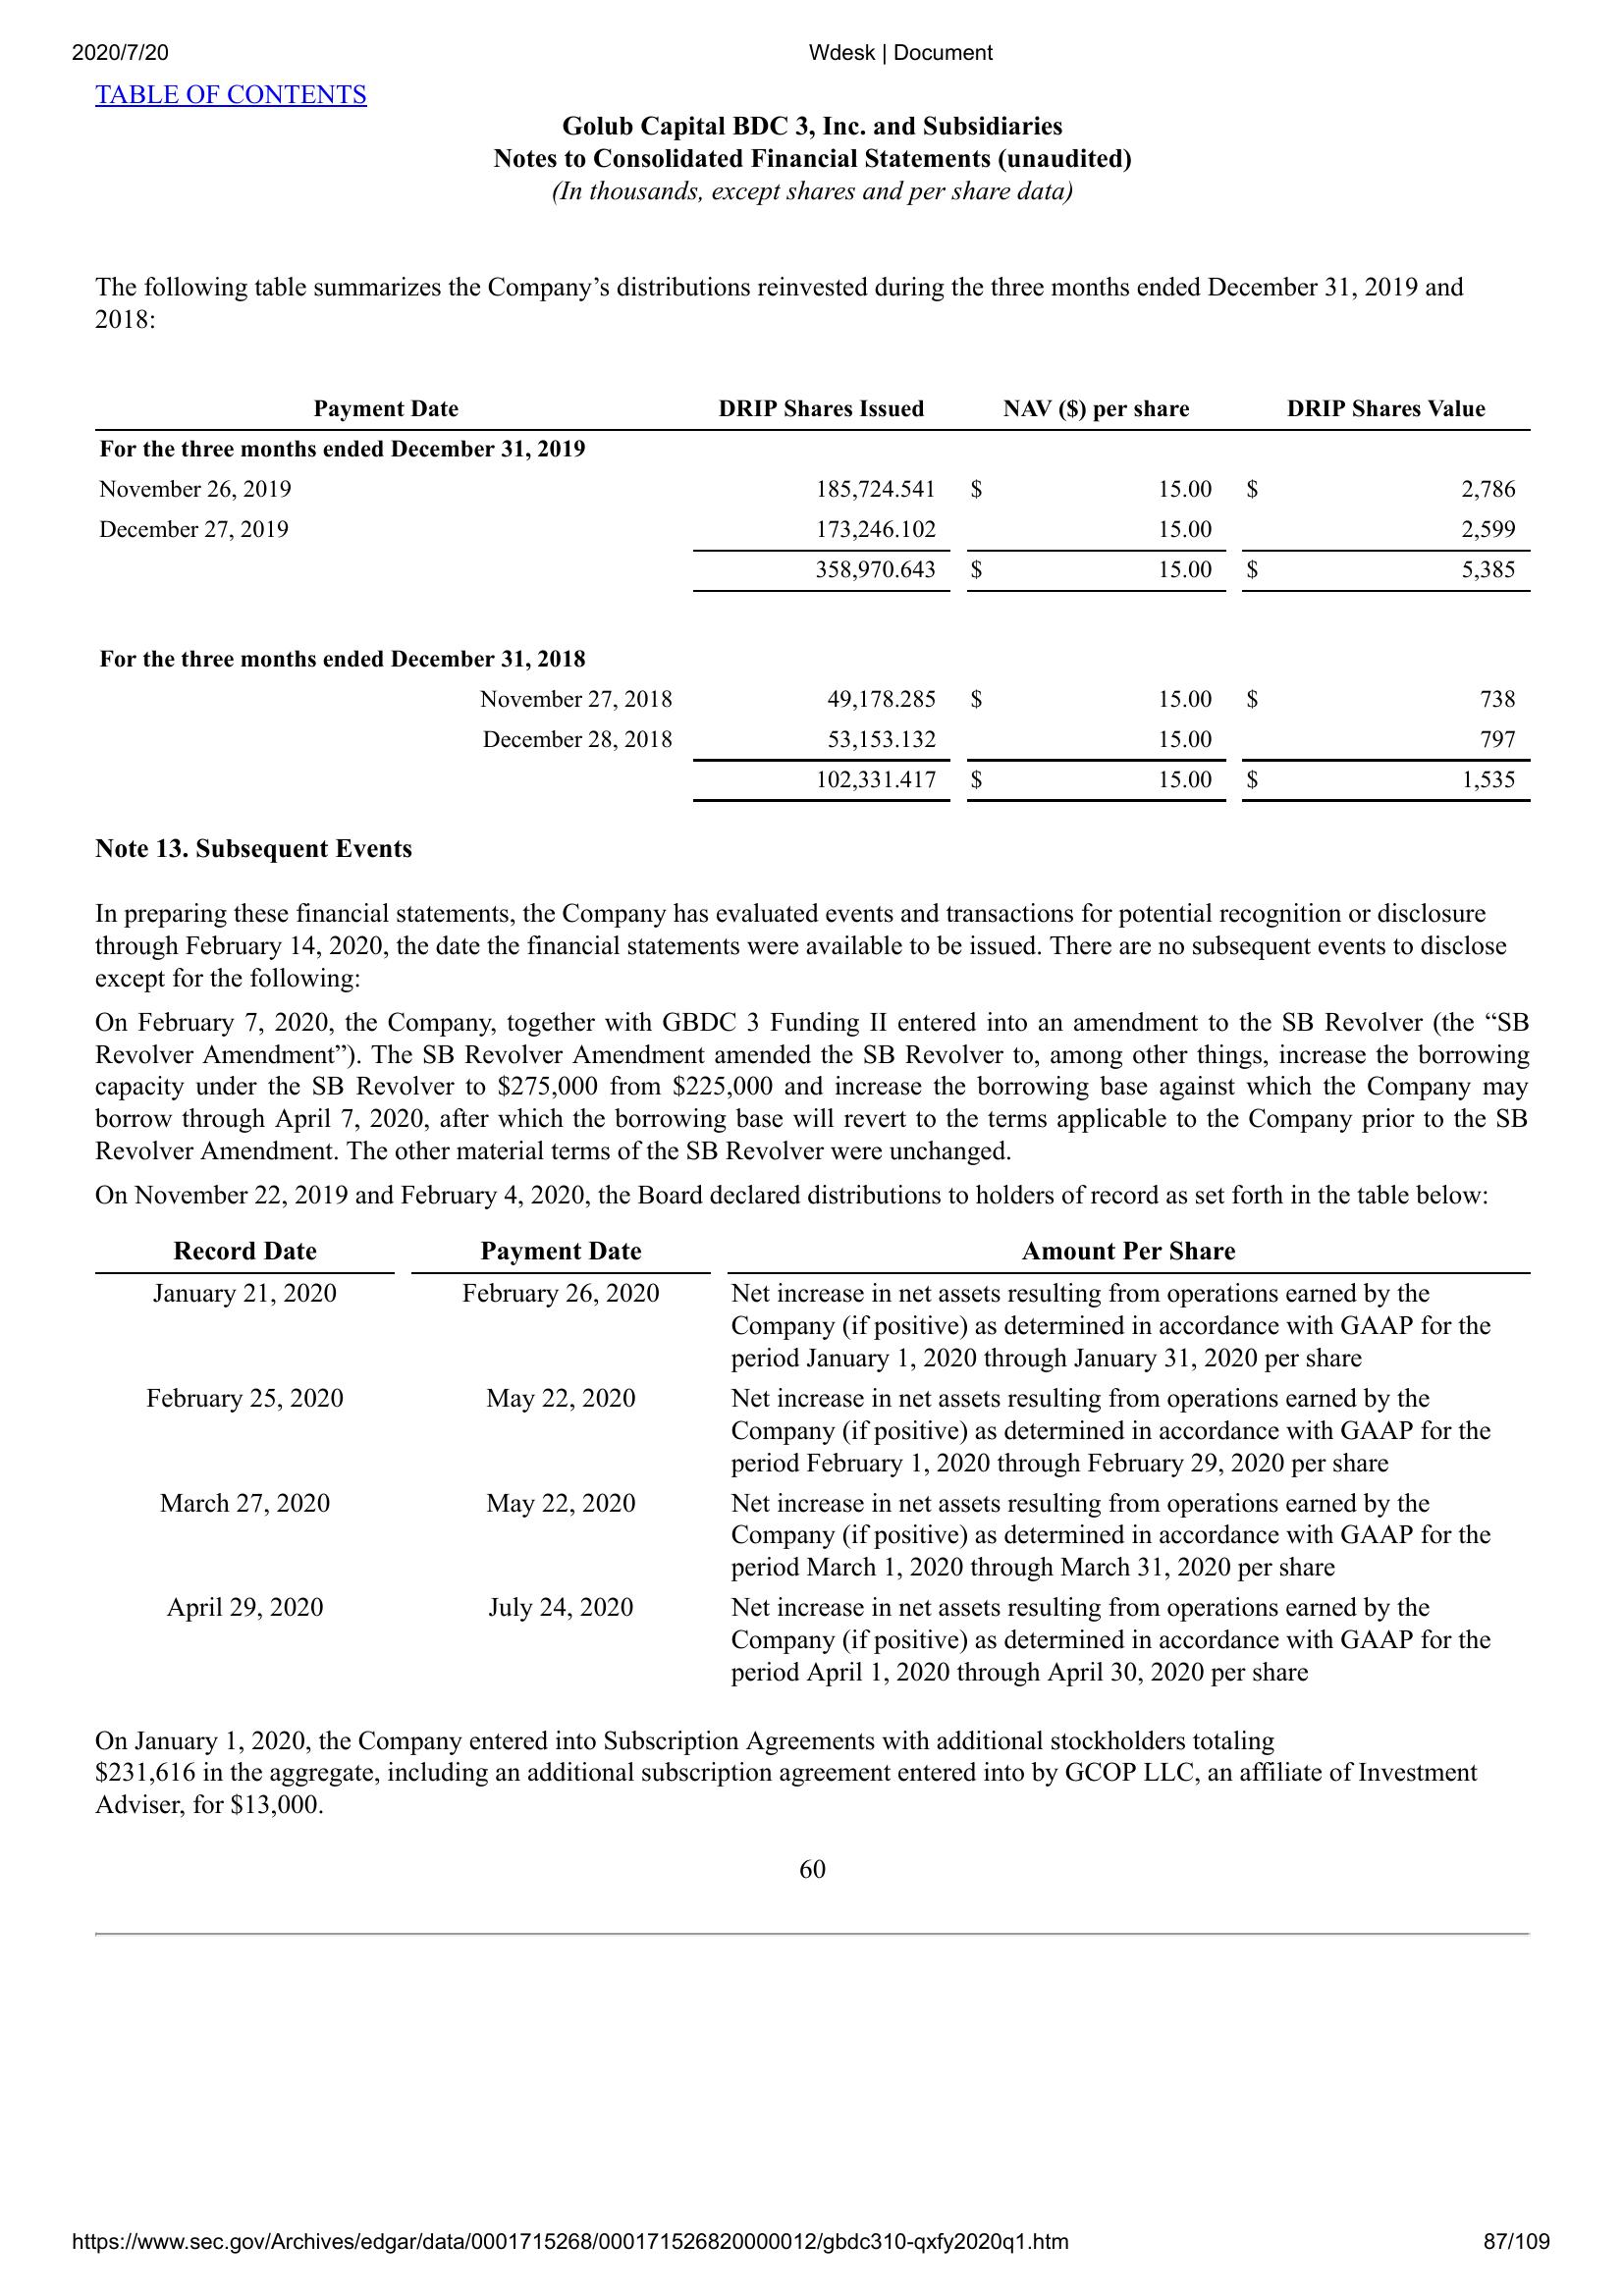table: (88, 1232, 1537, 1697), (90, 393, 1542, 814)
